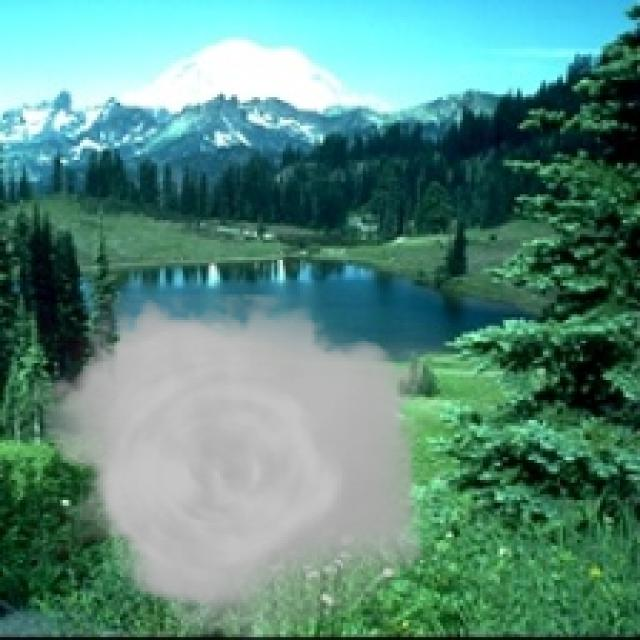smoke: (29, 294, 448, 637)
